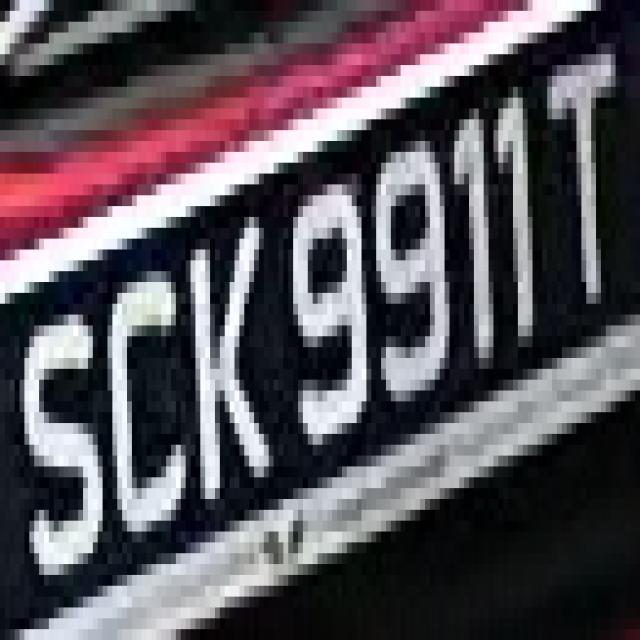1: (484, 65, 547, 391), (449, 54, 494, 402)
9: (278, 141, 366, 488), (372, 108, 449, 434)
C: (102, 239, 190, 564)
K: (171, 185, 274, 542)
S: (10, 293, 112, 586)
T: (533, 32, 635, 326)
